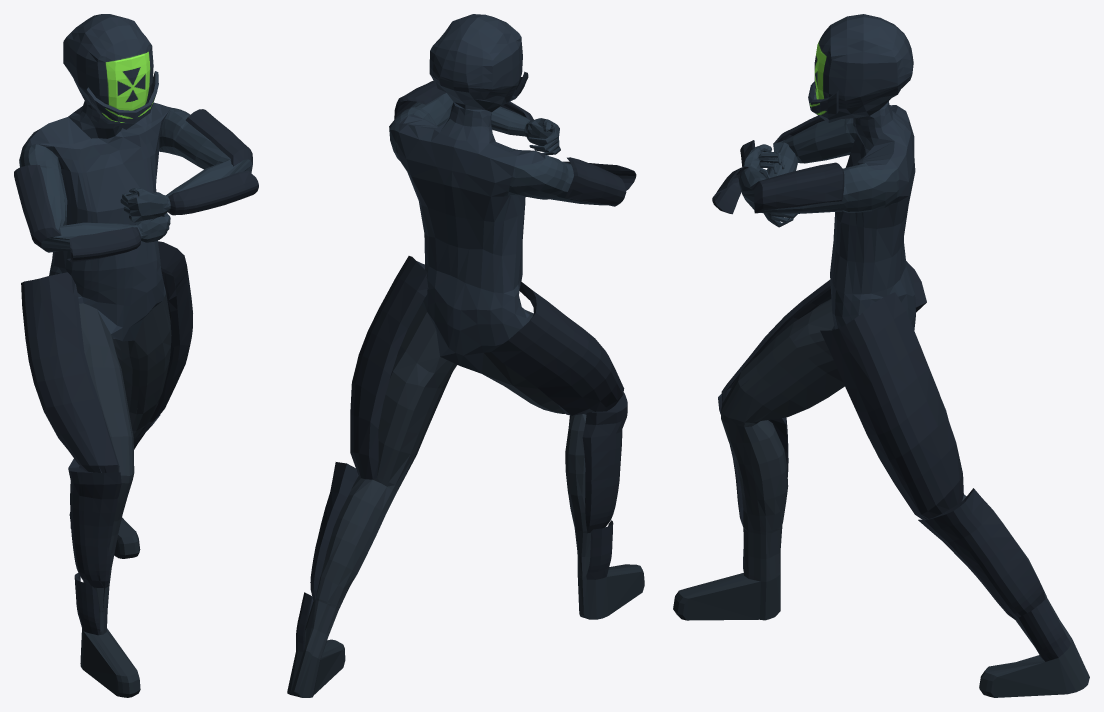
The model's file is Bastion_WB_000001.obj.
The picture shows the model from 3 angles, left to right: view 1: azimuth 30°, elevation 25°; view 2: azimuth 150°, elevation 25°; view 3: azimuth 270°, elevation 25°; orthographic projection. The views are drawn at different scales.
Parts seen in each view (by area): view 1: Cube.002; view 2: Cube.002; view 3: Cube.002.
Boxes of the visible parts, x1,y1,x2,y2 form: Cube.002: [14, 14, 258, 697]; Cube.002: [287, 14, 644, 697]; Cube.002: [673, 14, 1089, 697].
Size of the model in its own units: 1.31 by 3.59 by 2.14.
